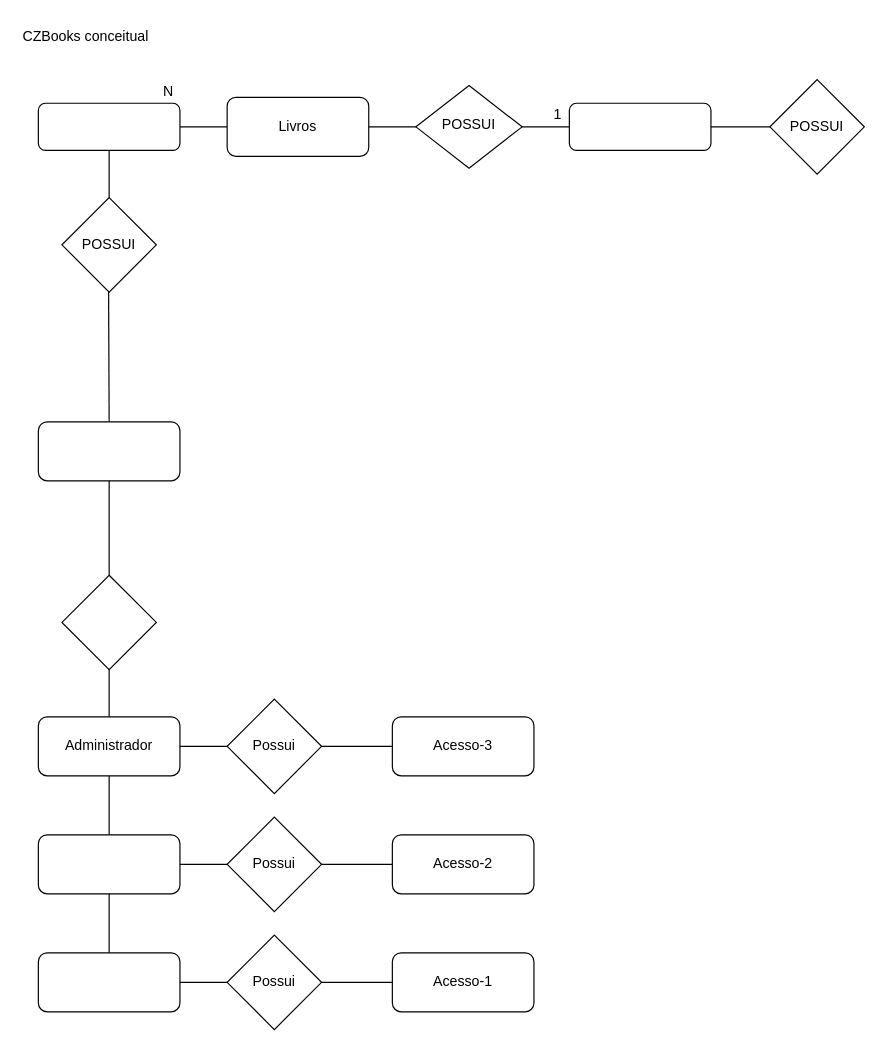
Image size: 885x1050. Some labels were removed from this diagram. The shapes that lost their labels are listed below. From the top down, each one's box as (x1, y1, x2, y2) in pixels, then its label:
(37, 102, 180, 150): Bibioteca
(568, 102, 711, 150): CATEGORIAS
(37, 421, 180, 481): Usuários
(61, 574, 156, 670): Tipo Usuario
(37, 834, 180, 894): Autor
(37, 952, 180, 1012): Cliente
